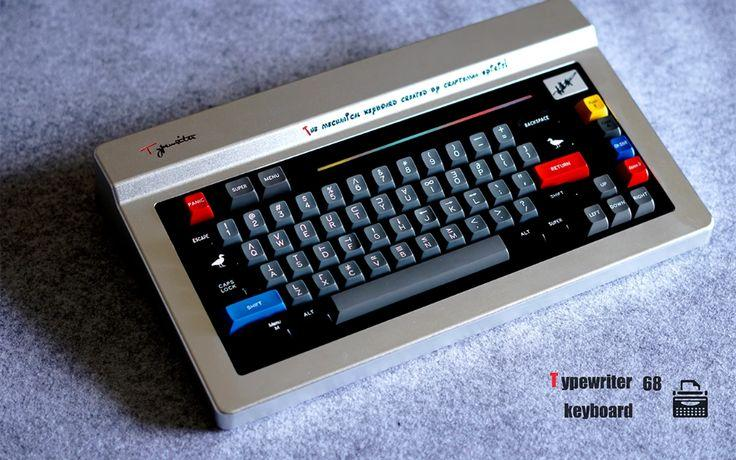keyboard: (82, 0, 716, 434)
